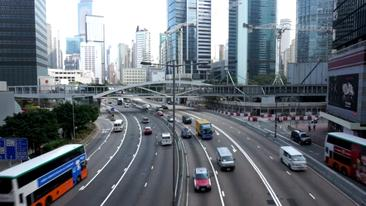bus: (0, 137, 99, 206), (320, 123, 366, 189), (112, 116, 124, 134)
car: (276, 142, 313, 176), (188, 161, 220, 195), (212, 143, 242, 175), (288, 125, 314, 149), (160, 131, 177, 148), (177, 125, 197, 139), (180, 113, 194, 127), (140, 125, 155, 137)
